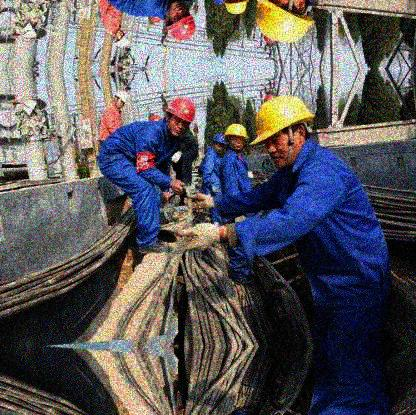helmet: (250, 95, 317, 169), (166, 95, 196, 137), (164, 1, 195, 41), (226, 123, 251, 150), (111, 28, 130, 48), (112, 90, 129, 109), (213, 133, 225, 155)
